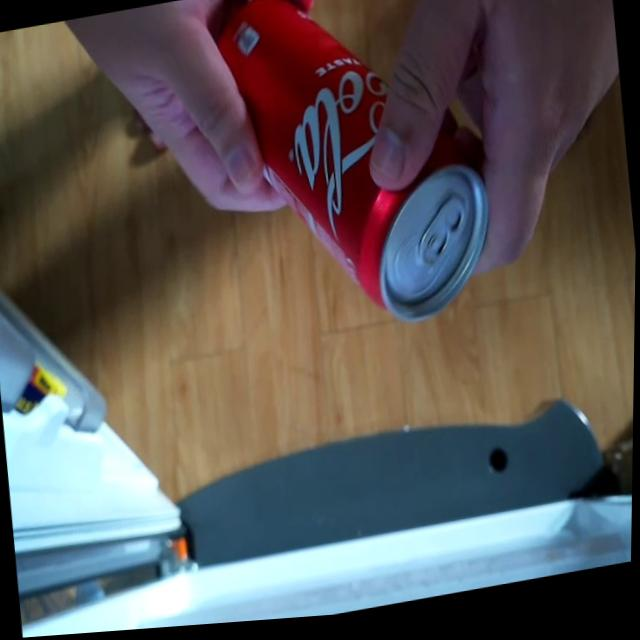coke: (203, 0, 506, 359)
